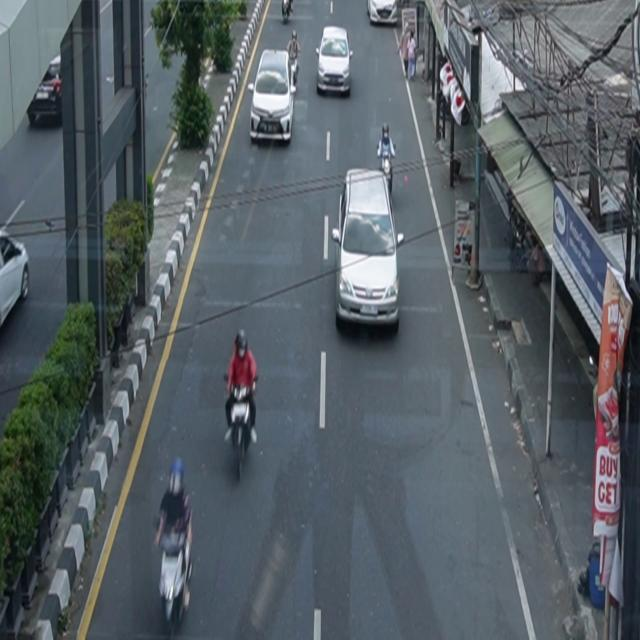car: (333, 168, 406, 333), (249, 49, 298, 144), (1, 229, 31, 331), (316, 26, 354, 97), (28, 55, 64, 128), (367, 1, 398, 26)
